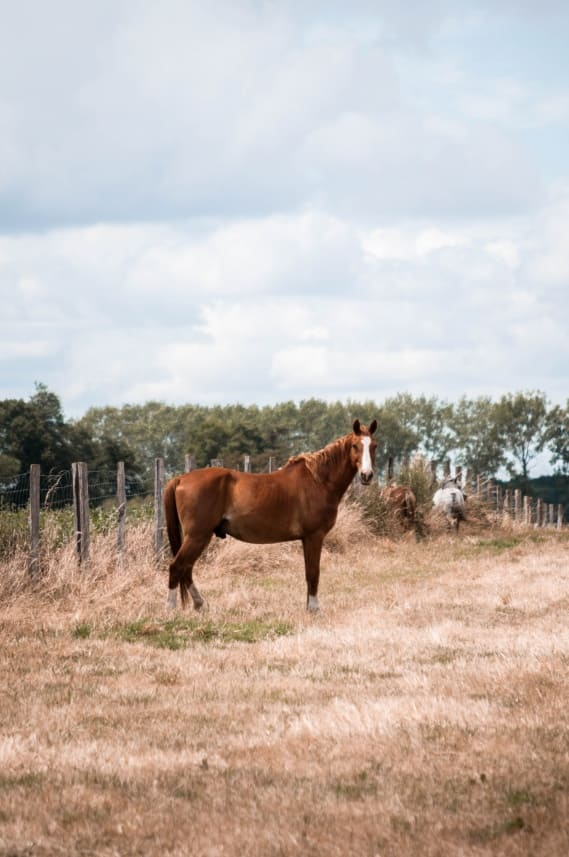horse: (164, 429, 378, 609)
